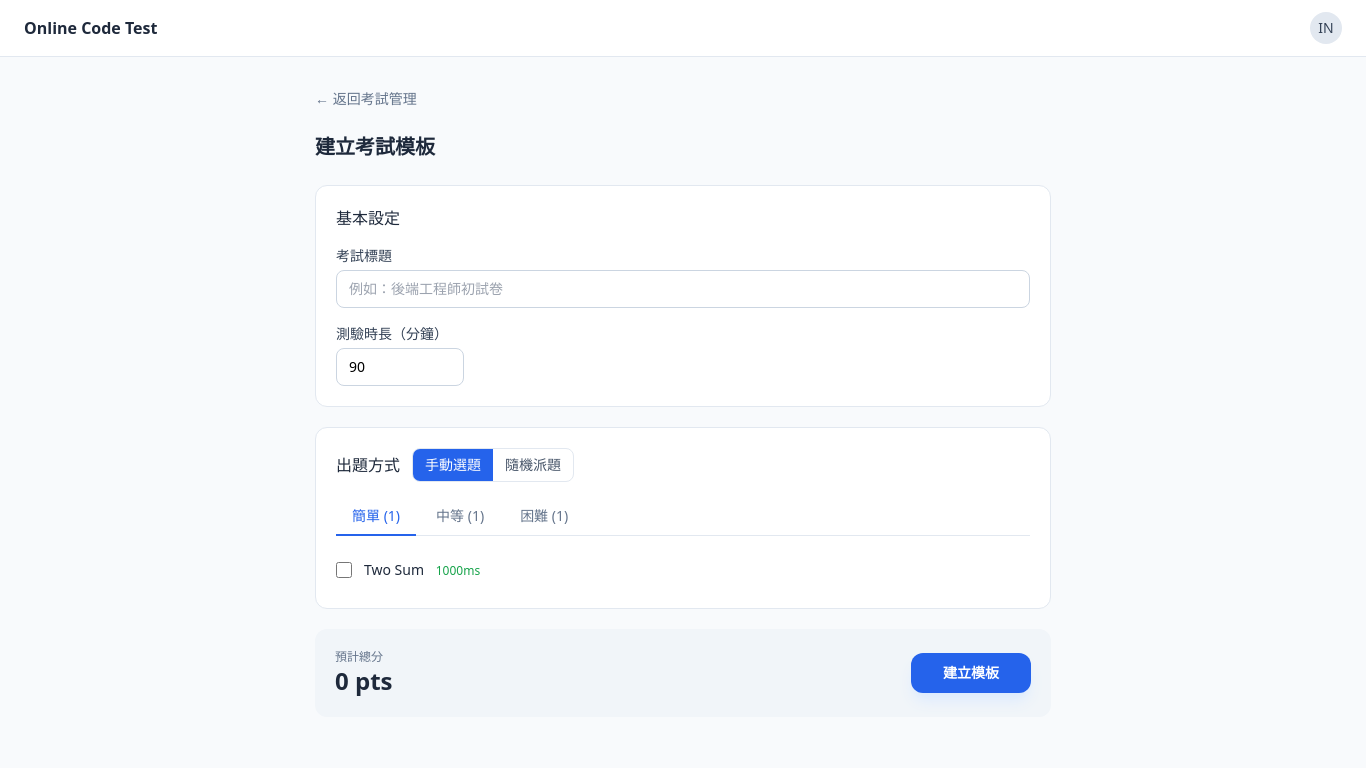
Scenario: TemplateCreatePage() › shows error when submitting with no title
Click the button "建立模板".
click(971, 673)  # box [911,653,1031,693]
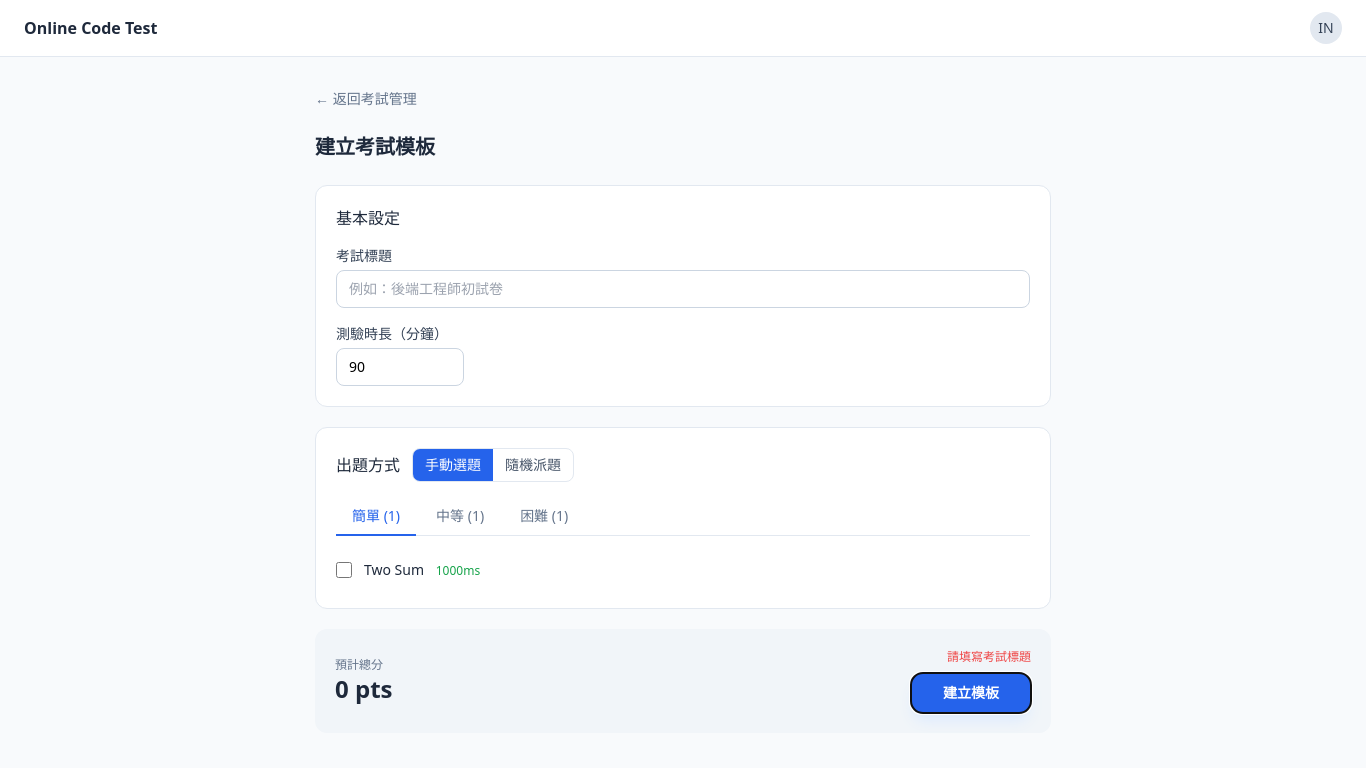
Result: the text "請填寫考試標題" is shown at [947,649,1031,665]
